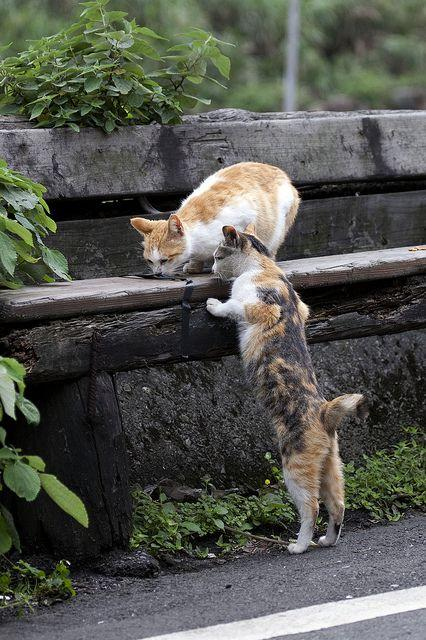kedo: (209, 224, 362, 552), (132, 162, 298, 276)
